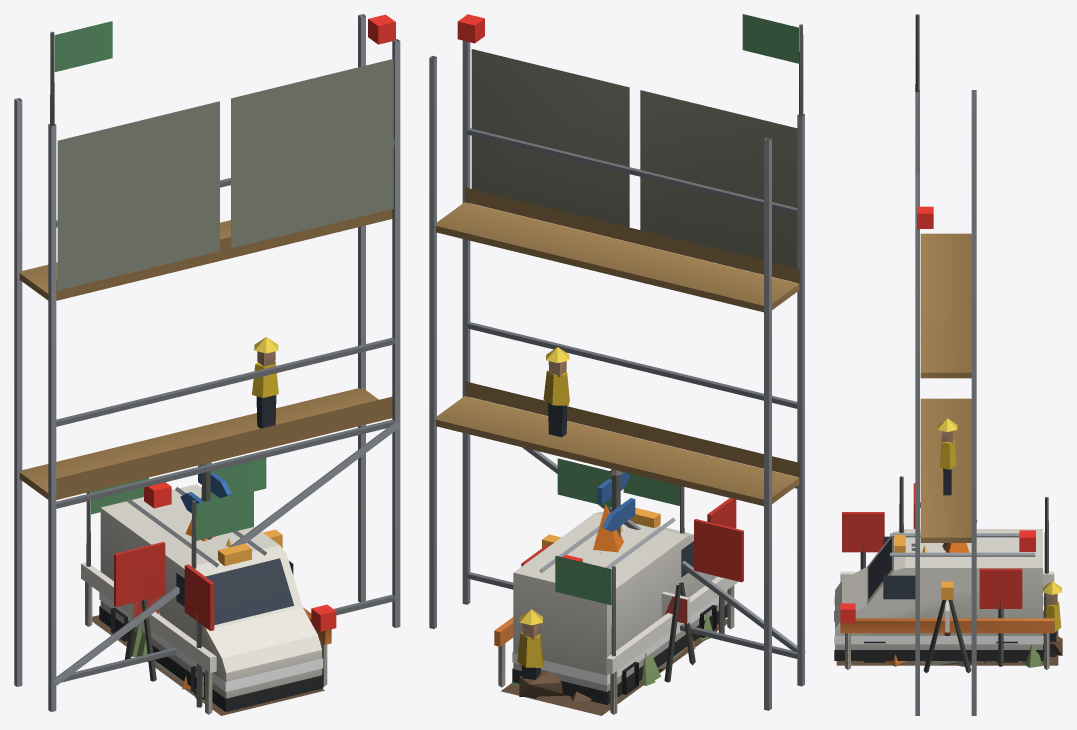
The model's file is crowd-forms.glb.
3 views of the same model, side by side, from view 1: azimuth 30°, elevation 25°; view 2: azimuth 150°, elevation 25°; view 3: azimuth 270°, elevation 25° (orthographic). The views are drawn at different scales.
Parts seen in each view (by area): view 1: Scaffold, Van, Trench, HoardFlag, Roadblock, Signpost; view 2: Scaffold, Van, Trench, HoardFlag, Roadblock, Signpost, Fire; view 3: Scaffold, Van, Trench, Roadblock.
Part boxes in pixels (box(x1,y1,x2,y2)): Scaffold: box(14, 14, 400, 711); Van: box(99, 482, 323, 711); Trench: box(81, 477, 336, 715); HoardFlag: box(210, 458, 266, 499); Roadblock: box(124, 529, 282, 681); Signpost: box(180, 462, 231, 539); Scaffold: box(429, 14, 805, 710); Van: box(512, 472, 727, 704); Trench: box(494, 498, 738, 715); HoardFlag: box(557, 458, 611, 507); Roadblock: box(542, 534, 695, 682); Signpost: box(597, 469, 635, 537); Fire: box(593, 504, 665, 672); Scaffold: box(911, 14, 976, 715); Van: box(834, 476, 1061, 666); Trench: box(836, 497, 1062, 669); Roadblock: box(923, 581, 971, 672).
Size of what is drawn, in the model's own units: 4.36 by 8.11 by 2.99.
